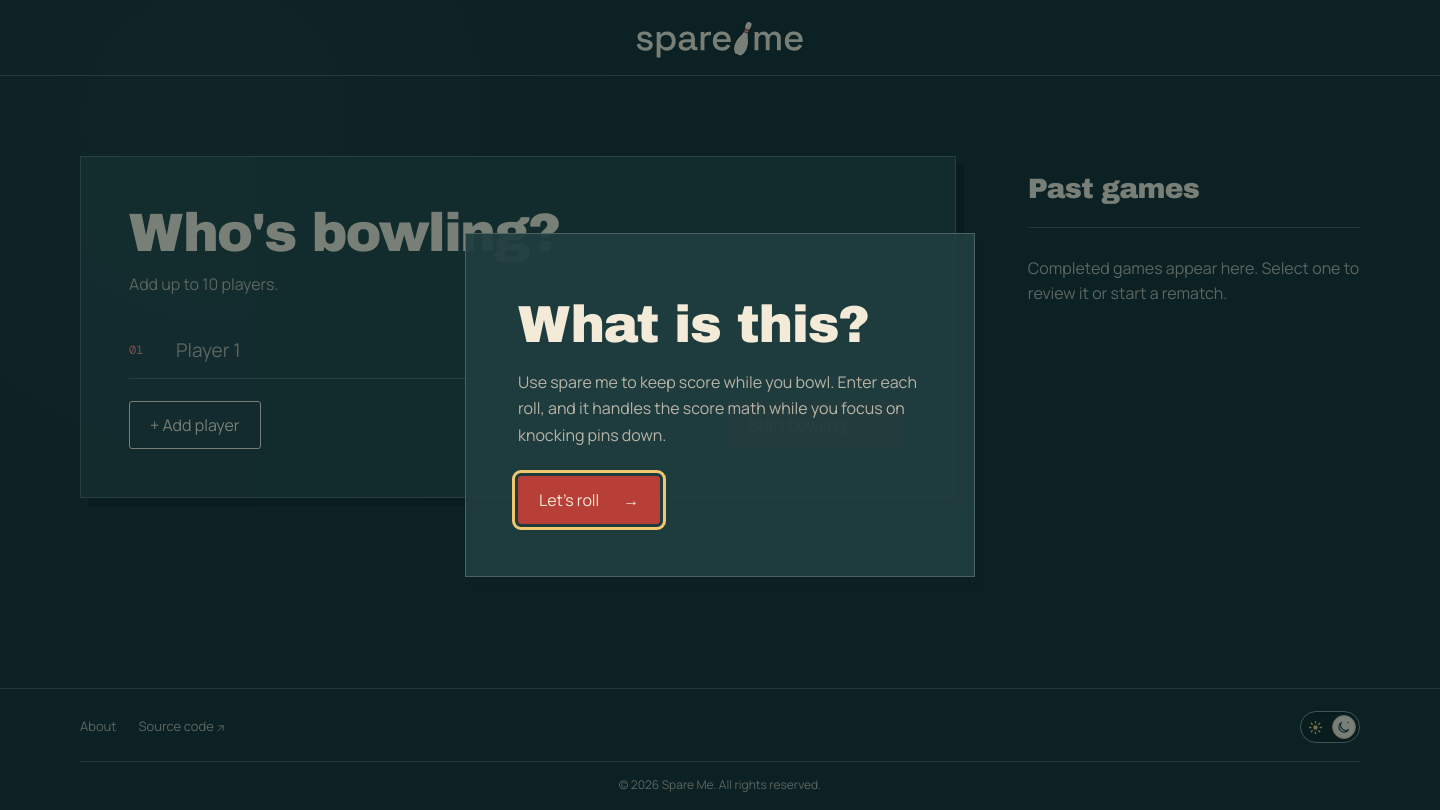
score entry flow › welcomes first-time users and focuses the first player field
Expected: the dialog "What is this?" is shown, x1=465 y1=233 x2=975 y2=577
Expected: the text "Use spare me to keep score while you bowl" is shown, x1=518 y1=371 x2=917 y2=446
Click the button "Let’s roll →".
click(589, 500)  # box x1=518 y1=476 x2=660 y2=524
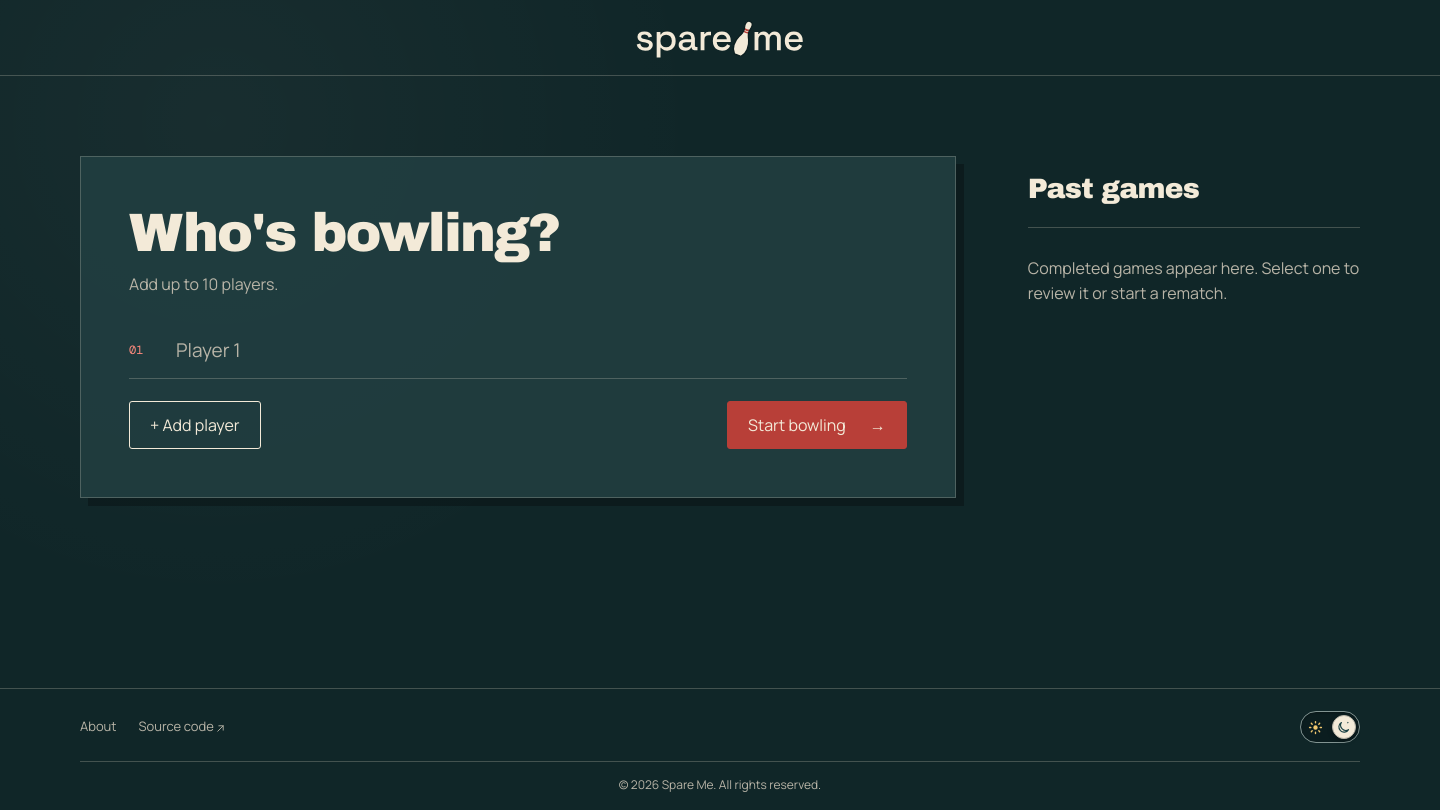
Now the dialog is gone
